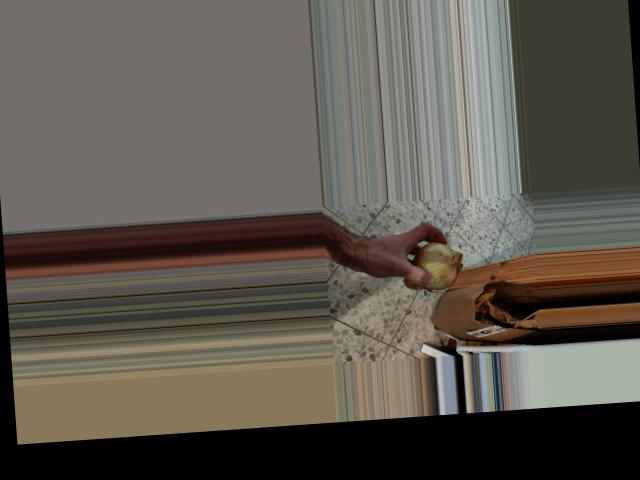onion: (400, 236, 466, 295)
